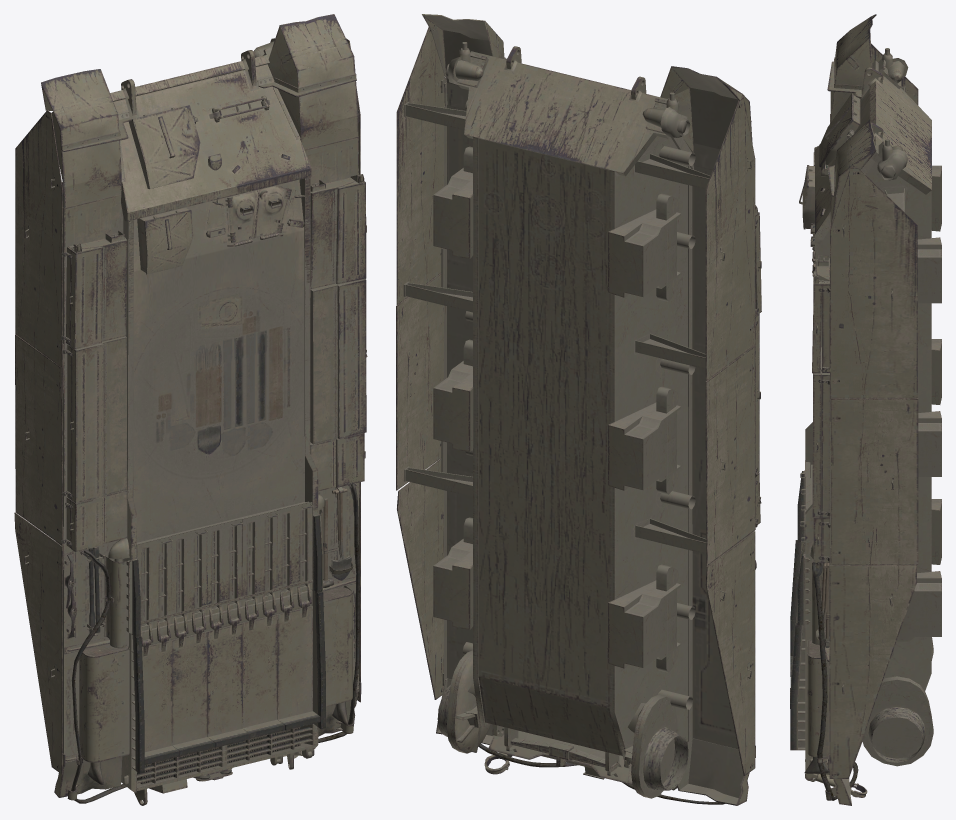
Rendered from Hull.glb.
3 views of the same model, side by side, from view 1: azimuth 30°, elevation 25°; view 2: azimuth 150°, elevation 25°; view 3: azimuth 270°, elevation 25° (orthographic). The views are drawn at different scales.
Visible parts, largest first — view 1: set_0_group_0; view 2: set_0_group_0; view 3: set_0_group_0.
Part boxes in pixels (left/top/right/bottom): set_0_group_0: left=14, top=14, right=367, bottom=805; set_0_group_0: left=396, top=14, right=761, bottom=805; set_0_group_0: left=790, top=14, right=941, bottom=805.
Bounding box in the file's own units: 3.39 × 7.65 × 1.55.
1 material, 1 textured.
